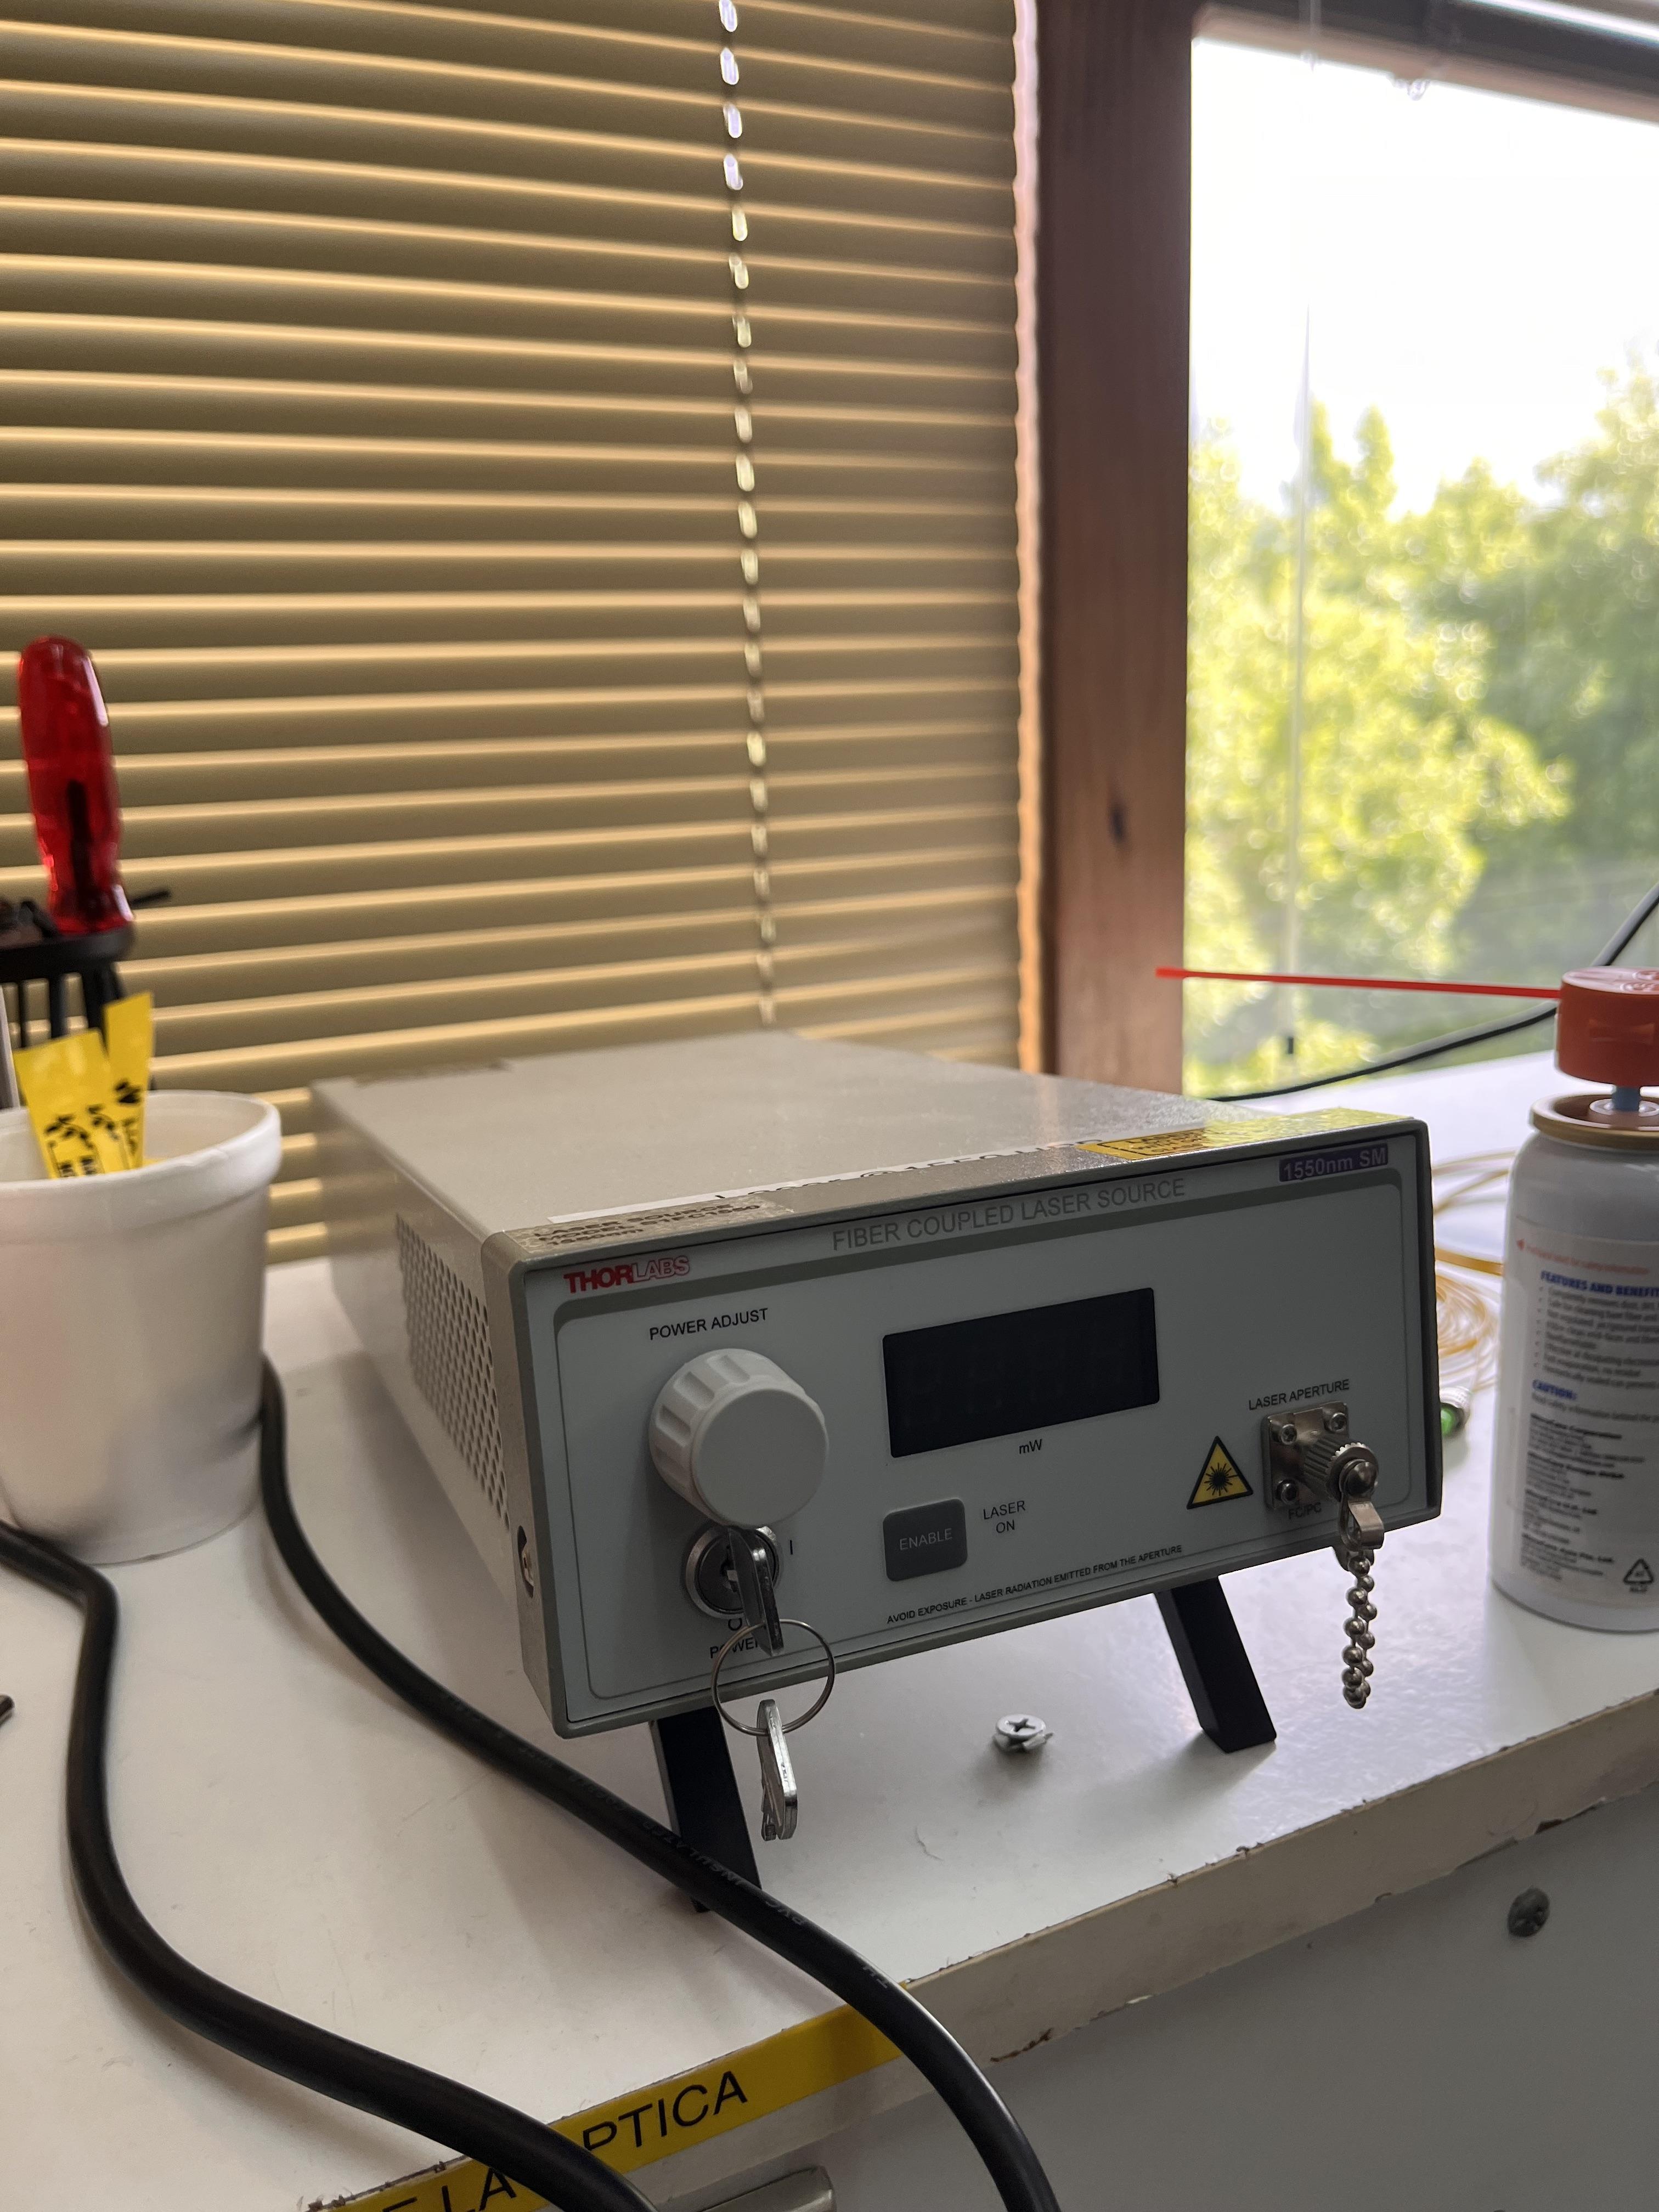laser: (300, 1019, 1455, 1916)
